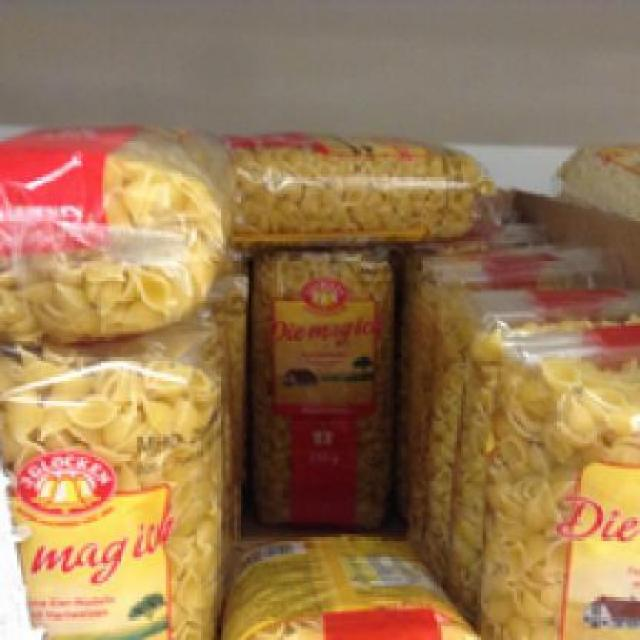Pasta: (0, 337, 229, 637), (472, 314, 634, 637), (248, 246, 398, 528), (220, 517, 480, 637), (216, 128, 489, 241)
